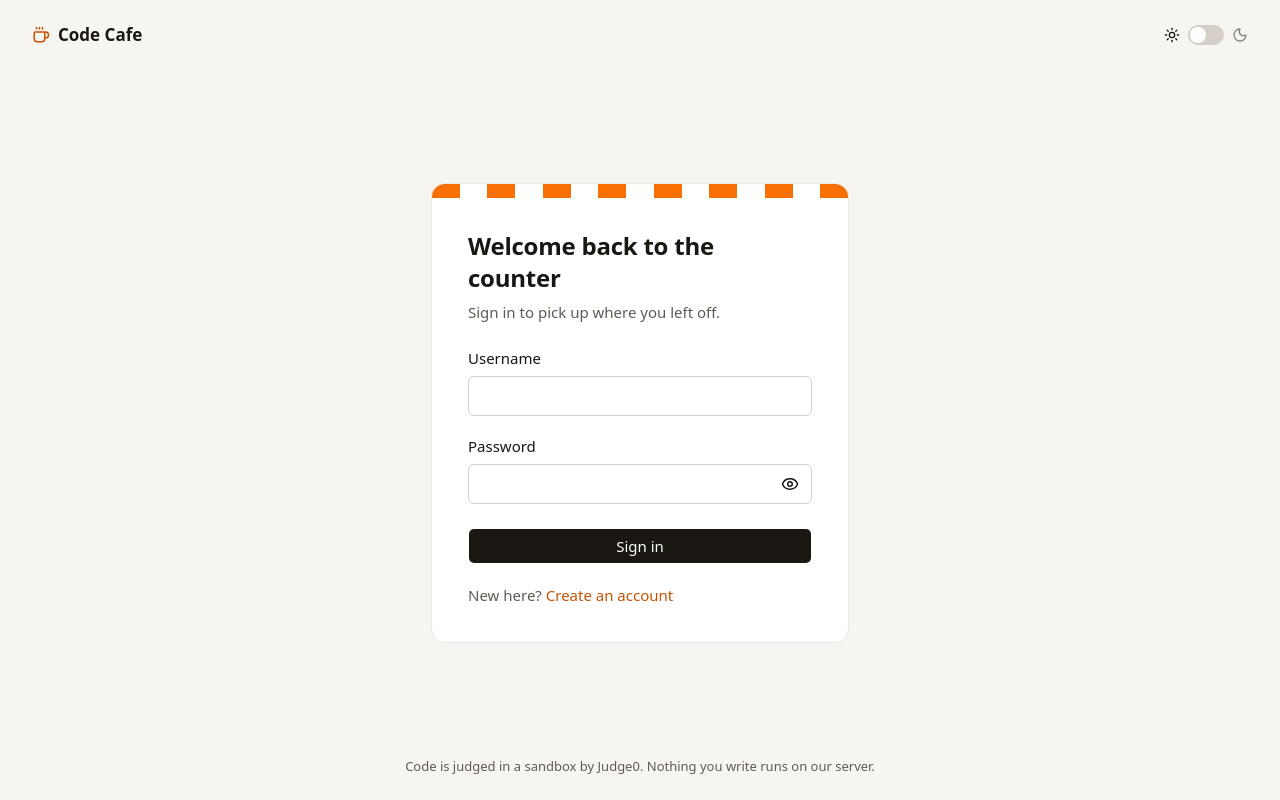
Scenario: sign in › signs in, stores the token and goes to /problems
The width and height of the screenshot is (1280, 800).
Type "alice" into the field labelled "Username" at (640, 396), box x1=468 y1=376 x2=812 y2=416
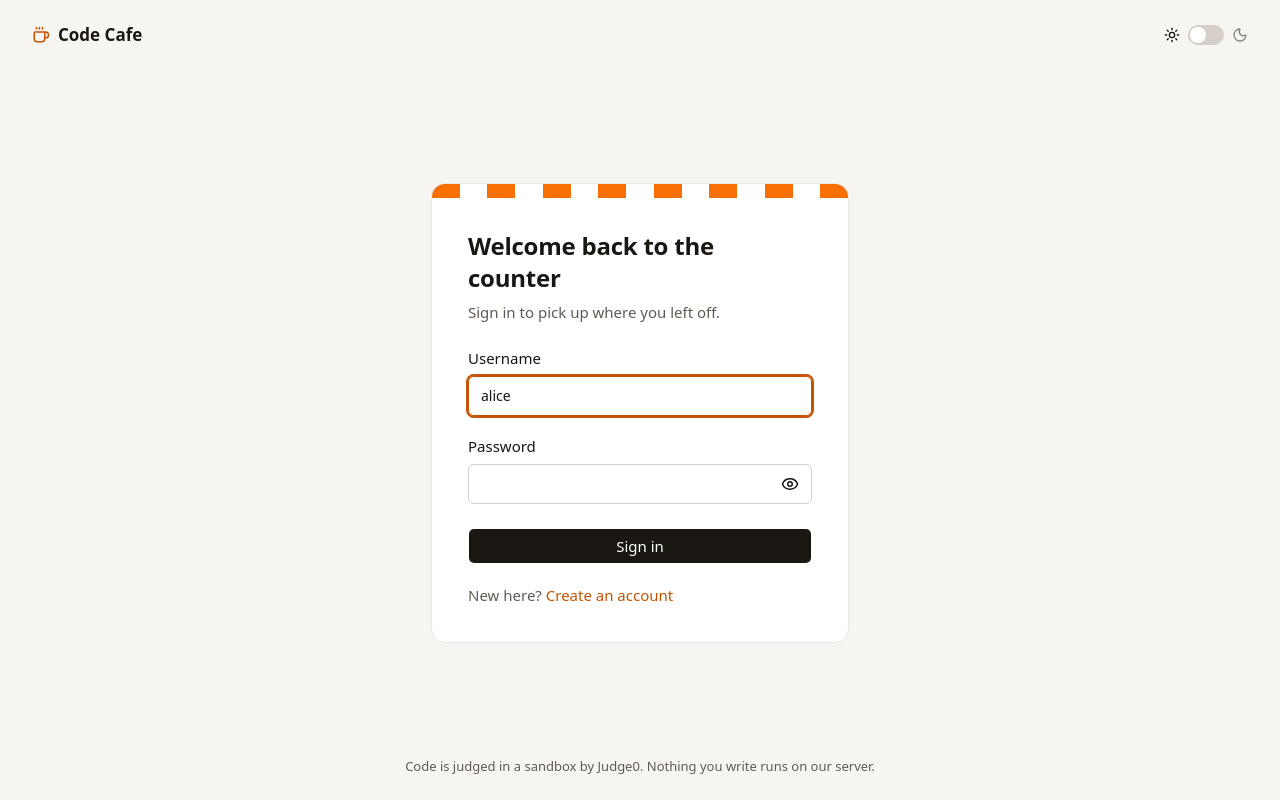
Type "Brew-1234-coffee" into the password field labelled "Password" at (640, 484), box x1=468 y1=464 x2=812 y2=504
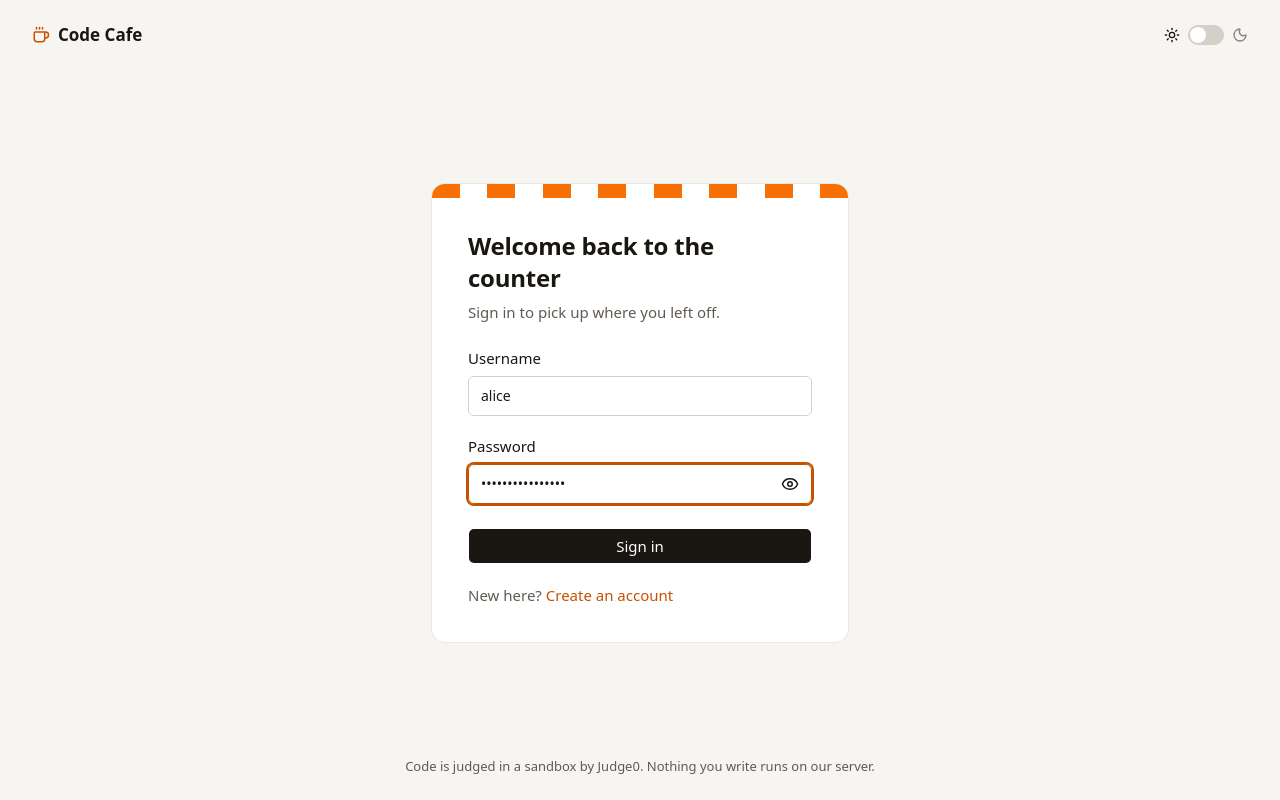
Click the button "Sign in" at (640, 546), box x1=468 y1=528 x2=812 y2=564
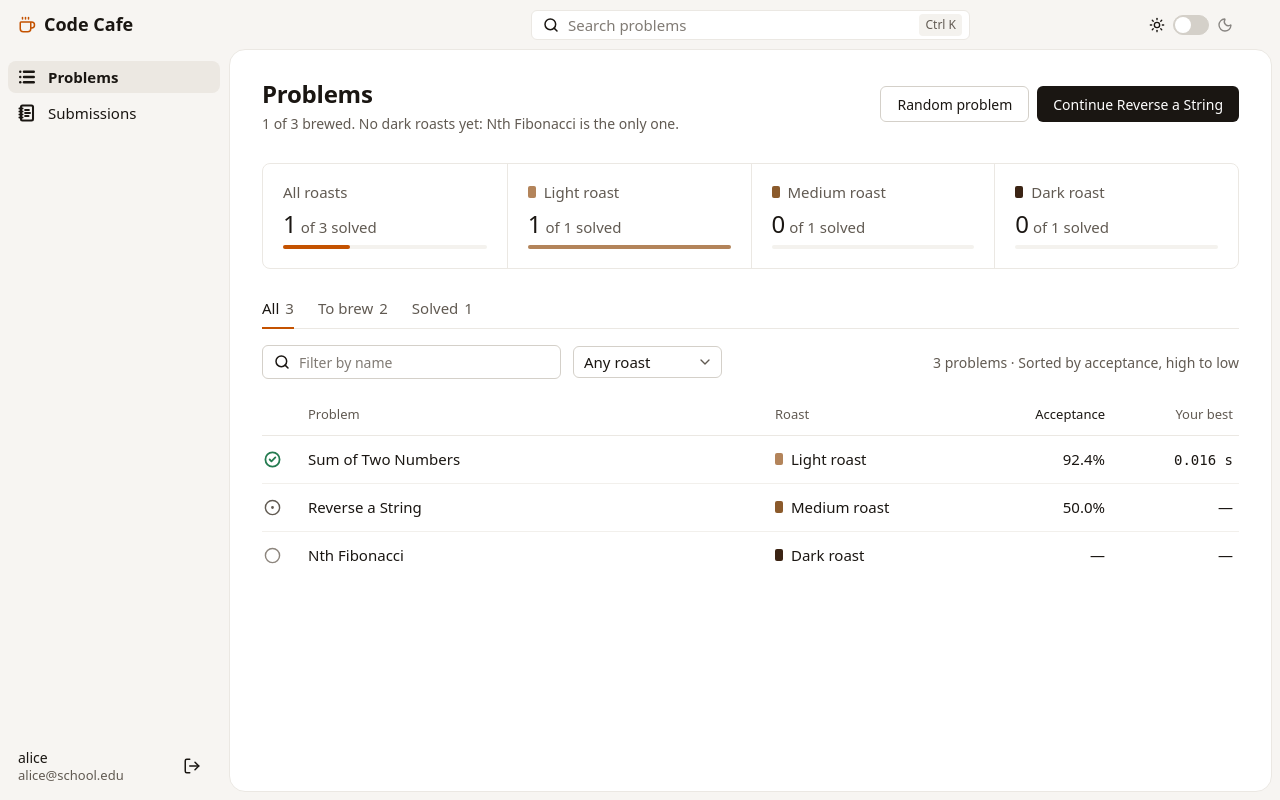
Result: the text "alice@school.edu" is shown at x1=18 y1=767 x2=124 y2=783
